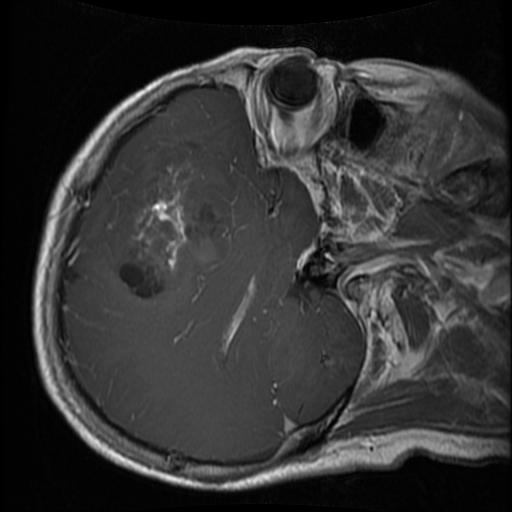glioma: (115, 156, 215, 302)
